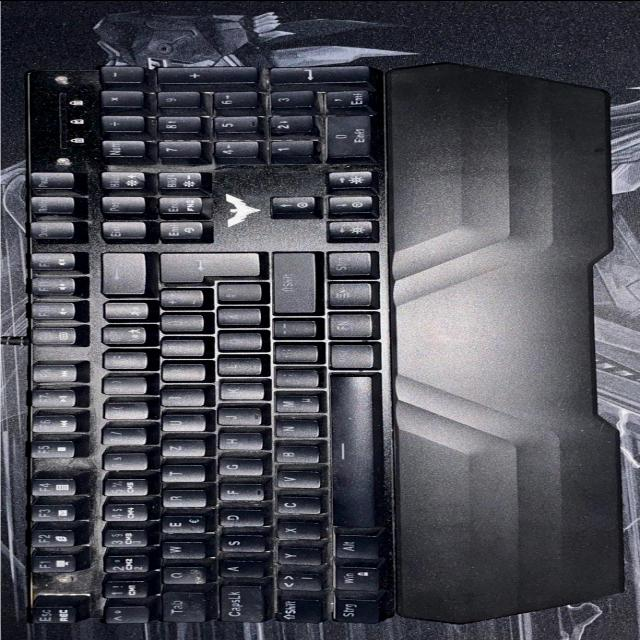0: (101, 350, 148, 370)
1: (97, 580, 149, 600)
2: (99, 555, 149, 575)
3: (97, 530, 147, 549)
4: (97, 503, 147, 522)
5: (98, 478, 148, 497)
6: (97, 452, 146, 471)
7: (98, 427, 146, 446)
8: (99, 401, 148, 421)
9: (99, 376, 146, 394)
a: (213, 560, 263, 579)
accent: (99, 302, 146, 322)
ae: (211, 308, 260, 328)
alt-left: (329, 534, 378, 560)
altgr-right: (325, 344, 375, 370)
b: (269, 446, 318, 464)
c: (271, 497, 319, 515)
caret: (99, 606, 147, 625)
comma: (269, 369, 319, 389)
d: (213, 510, 263, 528)
del: (97, 253, 144, 297)
e: (156, 516, 205, 534)
enter: (153, 253, 260, 285)
f: (213, 484, 261, 502)
g: (213, 459, 260, 477)
h: (213, 433, 260, 451)
hash: (211, 284, 260, 304)
i: (156, 389, 203, 407)
j: (212, 408, 260, 426)
k: (213, 383, 263, 401)
keyboard: (11, 56, 411, 628)
l: (211, 358, 261, 377)
less: (271, 574, 320, 592)
m: (269, 394, 318, 414)
minus: (268, 320, 315, 340)
n: (270, 420, 318, 439)
o: (156, 364, 203, 382)
oe: (212, 332, 260, 352)
p: (156, 339, 203, 357)
plus: (154, 290, 201, 310)
point: (268, 344, 317, 364)
q: (157, 567, 203, 585)
r: (157, 489, 205, 509)
s: (214, 535, 264, 553)
shift-left: (272, 598, 319, 624)
shift-lock: (214, 585, 264, 623)
shift-right: (266, 253, 315, 316)
space: (325, 375, 379, 529)
ss: (98, 326, 145, 346)
strg-left: (329, 599, 379, 624)
strg-right: (323, 251, 372, 279)
t: (156, 465, 203, 483)
tab: (156, 592, 205, 624)
u: (157, 414, 204, 432)
ue: (156, 315, 202, 334)
v: (271, 471, 318, 490)
w: (157, 541, 204, 561)
x: (271, 523, 319, 541)
y: (272, 548, 319, 567)
z: (156, 440, 203, 458)
